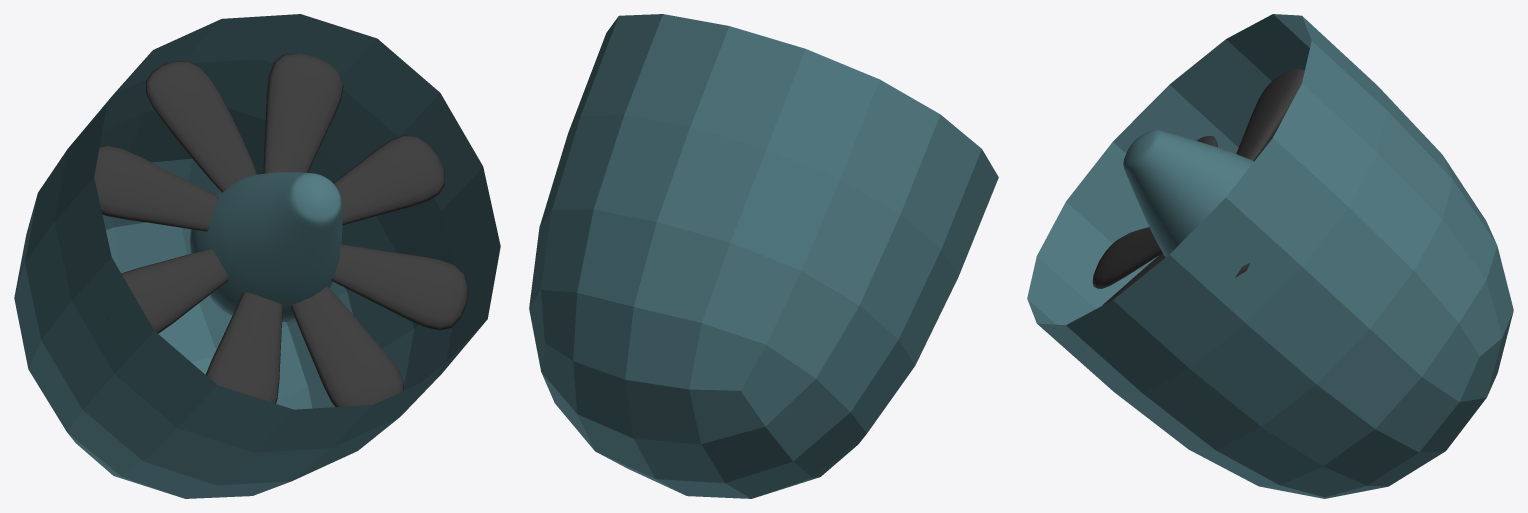
The model's file is ventilator2.fbx.
3 renders of one model, left to right at view 1: azimuth 30°, elevation 25°; view 2: azimuth 150°, elevation 25°; view 3: azimuth 270°, elevation 25°, orthographic. The views are drawn at different scales.
Parts seen in each view (by area): view 1: куб_вен.001, куб_вен.005; view 2: куб_вен.001; view 3: куб_вен.001, куб_вен.005.
Boxes of the visible parts, x1,y1,x2,y2 form: куб_вен.001: [14, 14, 500, 498]; куб_вен.005: [94, 53, 467, 406]; куб_вен.001: [529, 14, 998, 498]; куб_вен.001: [1027, 14, 1513, 498]; куб_вен.005: [1092, 68, 1304, 305].
Size of the model in its own units: 77.21 by 93.38 by 93.38.
